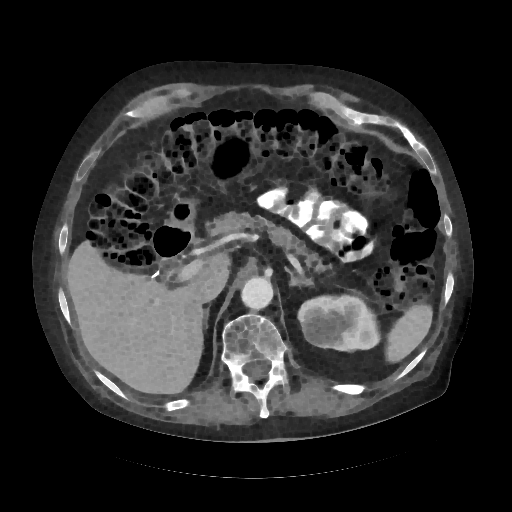Lesion: (305, 307, 348, 348)
